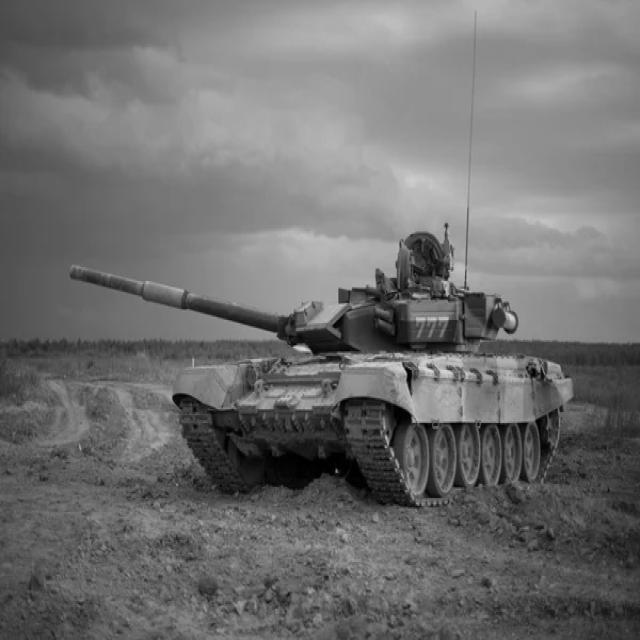Tank: (65, 220, 578, 510)
